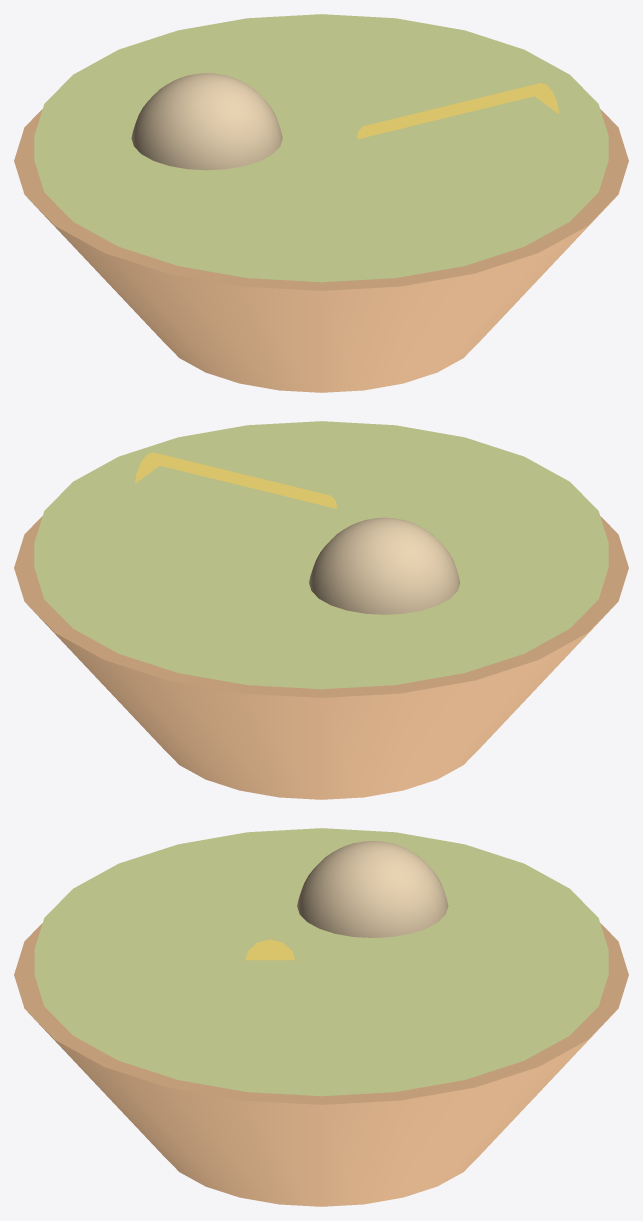
File: ajiaco.glb
3 views of the same model, one above another, from view 1: azimuth 30°, elevation 25°; view 2: azimuth 150°, elevation 25°; view 3: azimuth 270°, elevation 25° (orthographic).
Parts seen in each view (by area): view 1: caldo, cuenco, crema, mazorca; view 2: caldo, cuenco, crema, mazorca; view 3: caldo, cuenco, crema, mazorca.
Part boxes in pixels (left/top/right/bottom): caldo: left=34, top=14, right=608, bottom=282; cuenco: left=14, top=109, right=628, bottom=392; crema: left=131, top=73, right=282, bottom=170; mazorca: left=357, top=83, right=559, bottom=139; caldo: left=34, top=421, right=608, bottom=689; cuenco: left=14, top=516, right=628, bottom=799; crema: left=309, top=517, right=460, bottom=614; mazorca: left=135, top=452, right=337, bottom=508; caldo: left=34, top=828, right=608, bottom=1096; cuenco: left=14, top=923, right=628, bottom=1206; crema: left=297, top=841, right=448, bottom=937; mazorca: left=245, top=939, right=294, bottom=960.
Size of the model in its own units: 1.2 by 0.53 by 1.2.
